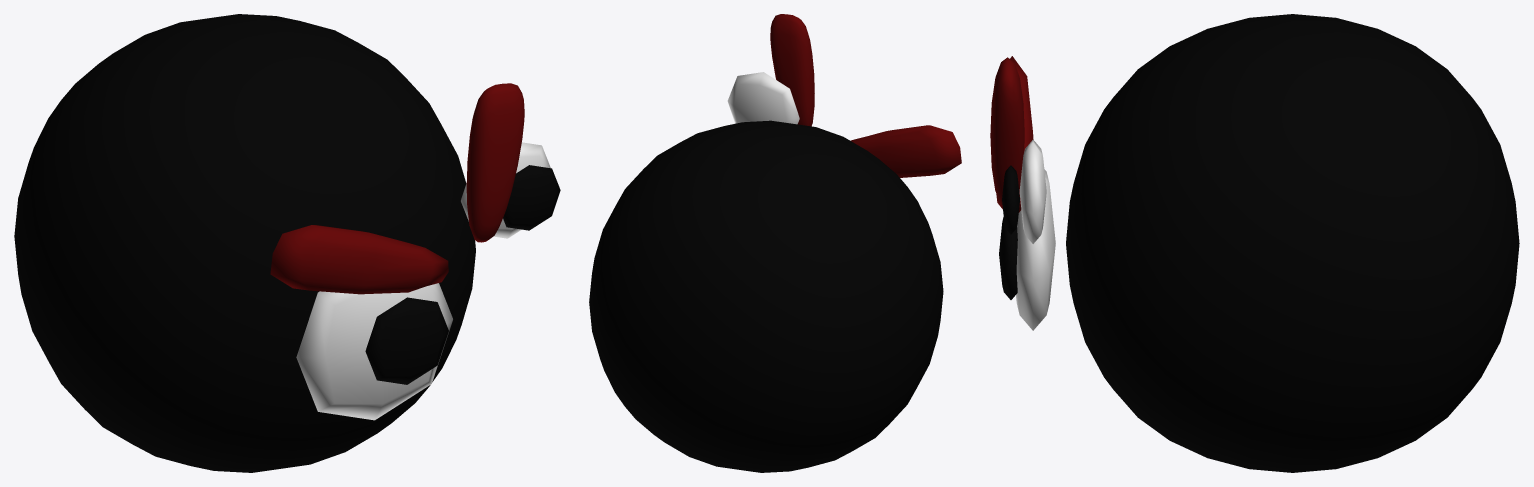
File: spiderguy.fbx
3 views of the same model, side by side, from view 1: azimuth 30°, elevation 25°; view 2: azimuth 150°, elevation 25°; view 3: azimuth 270°, elevation 25° (orthographic). The views are drawn at different scales.
Parts seen in each view (by area): view 1: body.001, eye white.002, eyebrow, eyebrow.001, eye black.002, eye black.003, eye white.003; view 2: body.001, eyebrow, eyebrow.001, eye white.003; view 3: body.001, eyebrow.001, eye white.002, eye white.003, eye black.002, eye black.003, eyebrow.
Part boxes in pixels (bbox=[...]): body.001: bbox=[14, 14, 475, 472]; eye white.002: bbox=[296, 283, 452, 420]; eyebrow: bbox=[270, 225, 448, 294]; eyebrow.001: bbox=[466, 83, 524, 242]; eye black.002: bbox=[365, 297, 448, 384]; eye black.003: bbox=[503, 165, 560, 230]; eye white.003: bbox=[461, 142, 550, 238]; body.001: bbox=[589, 120, 943, 472]; eyebrow: bbox=[850, 125, 961, 177]; eyebrow.001: bbox=[770, 14, 814, 126]; eye white.003: bbox=[727, 72, 799, 124]; body.001: bbox=[1066, 14, 1519, 472]; eyebrow.001: bbox=[990, 57, 1024, 205]; eye white.002: bbox=[1016, 169, 1055, 330]; eye white.003: bbox=[1019, 139, 1046, 243]; eye black.002: bbox=[999, 217, 1017, 299]; eye black.003: bbox=[1002, 165, 1019, 234]; eyebrow: bbox=[996, 56, 1033, 212].
Bounding box in the file's own units: 41.98 × 45.18 × 48.96.
